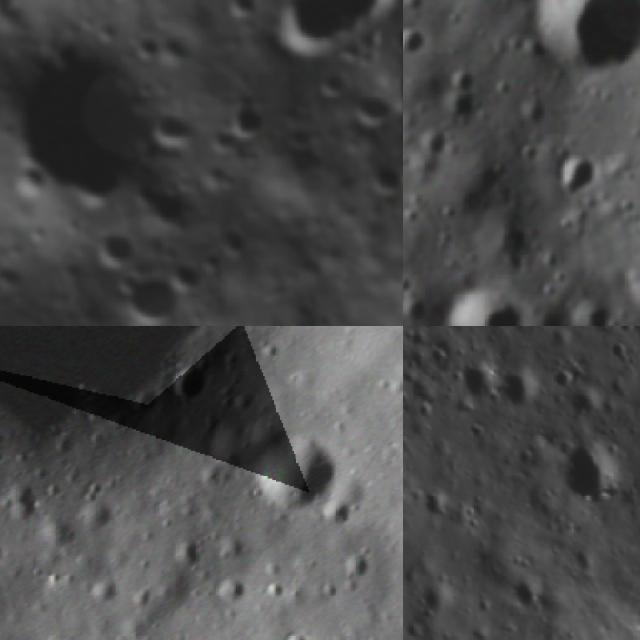crater: (0, 6, 192, 242), (232, 405, 364, 537), (519, 0, 640, 82), (258, 0, 357, 75), (123, 158, 206, 246), (555, 430, 633, 518), (108, 253, 197, 326), (153, 345, 229, 423), (212, 84, 282, 151), (142, 98, 209, 165), (337, 79, 403, 145), (84, 220, 147, 280), (476, 219, 538, 278), (445, 286, 534, 326), (548, 149, 608, 205), (330, 536, 387, 592), (308, 57, 363, 113), (202, 562, 258, 617), (72, 484, 128, 539), (211, 214, 263, 268), (357, 152, 403, 212), (279, 108, 330, 161), (494, 362, 540, 420), (166, 525, 217, 574), (455, 355, 500, 408), (126, 22, 174, 68), (504, 570, 546, 622), (207, 0, 269, 35), (190, 236, 233, 284), (559, 380, 602, 426), (566, 298, 625, 326), (0, 248, 30, 302), (623, 259, 640, 323), (103, 310, 168, 326), (403, 23, 429, 60), (403, 296, 432, 326), (277, 624, 326, 640)
